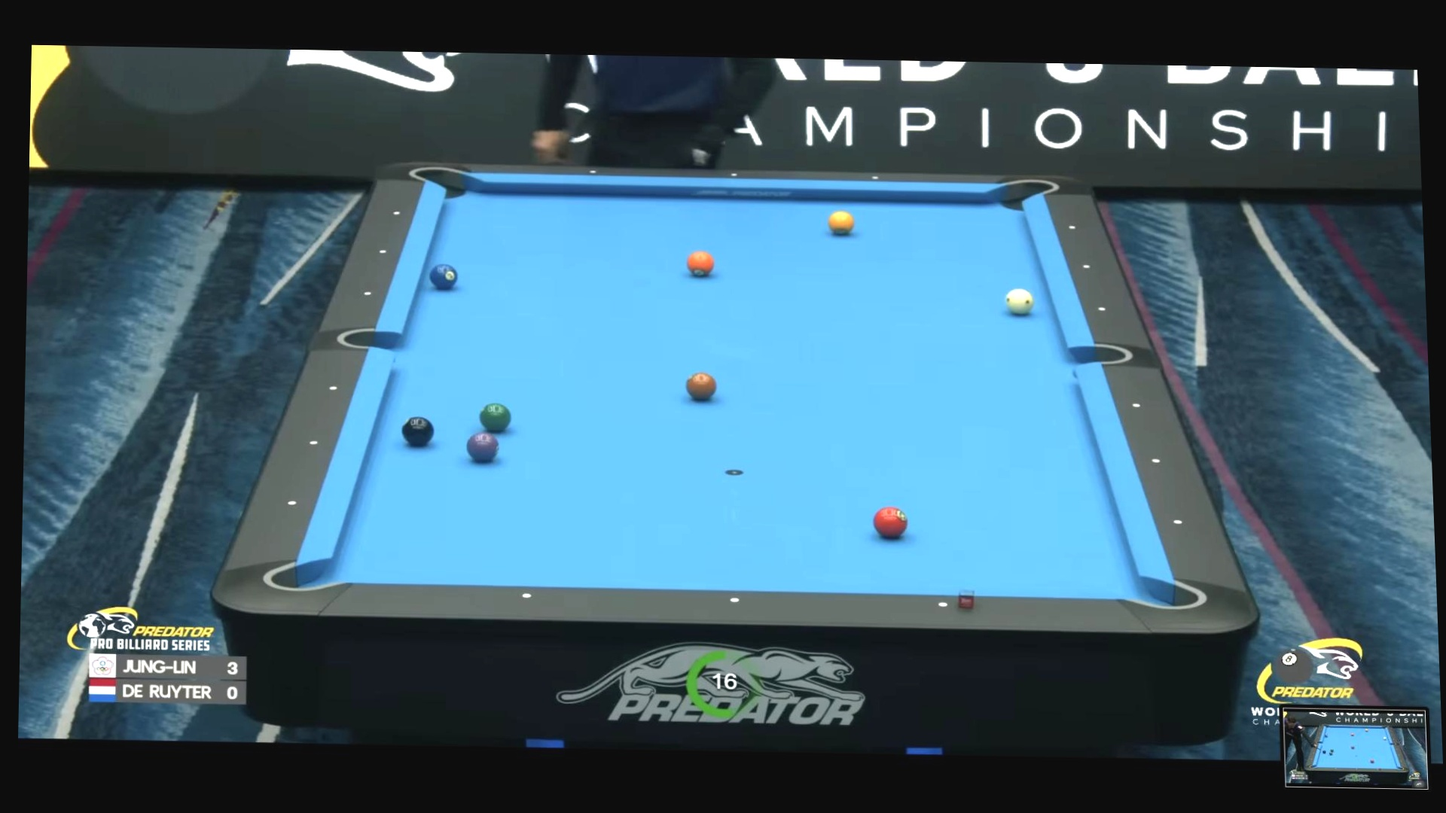Black: (728, 595, 741, 607), (936, 600, 949, 612), (520, 590, 532, 602), (1150, 456, 1162, 467), (378, 247, 389, 258), (390, 207, 401, 218), (1172, 517, 1184, 527), (1130, 400, 1142, 410), (308, 439, 319, 449), (327, 383, 338, 393), (362, 288, 373, 298), (287, 499, 297, 509), (1097, 304, 1107, 313), (1082, 263, 1091, 271), (1068, 223, 1077, 231), (589, 168, 597, 176), (730, 172, 738, 179), (872, 174, 880, 181)
Cue: (873, 506, 908, 538), (466, 432, 500, 461), (479, 402, 511, 432), (685, 371, 717, 400), (685, 250, 714, 277), (429, 263, 458, 289), (828, 210, 855, 235)
Solid: (401, 416, 435, 446)
Stripe: (1005, 288, 1035, 315)
